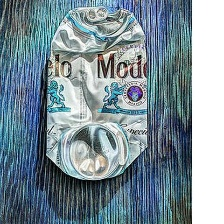can: (42, 3, 154, 181)
